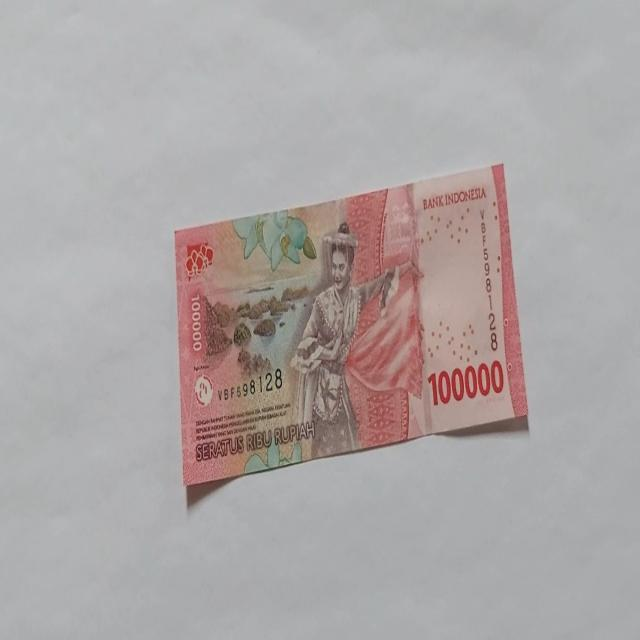seratus ribu rupiah: (174, 161, 528, 487), (289, 220, 408, 458)
